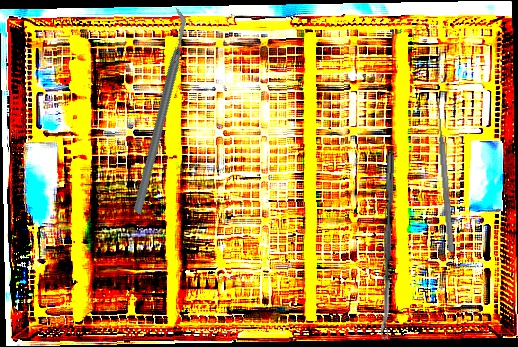Chopper: (62, 7, 255, 216)
Pusher: (433, 100, 457, 253)
Surgical Spoon: (379, 150, 395, 340)
